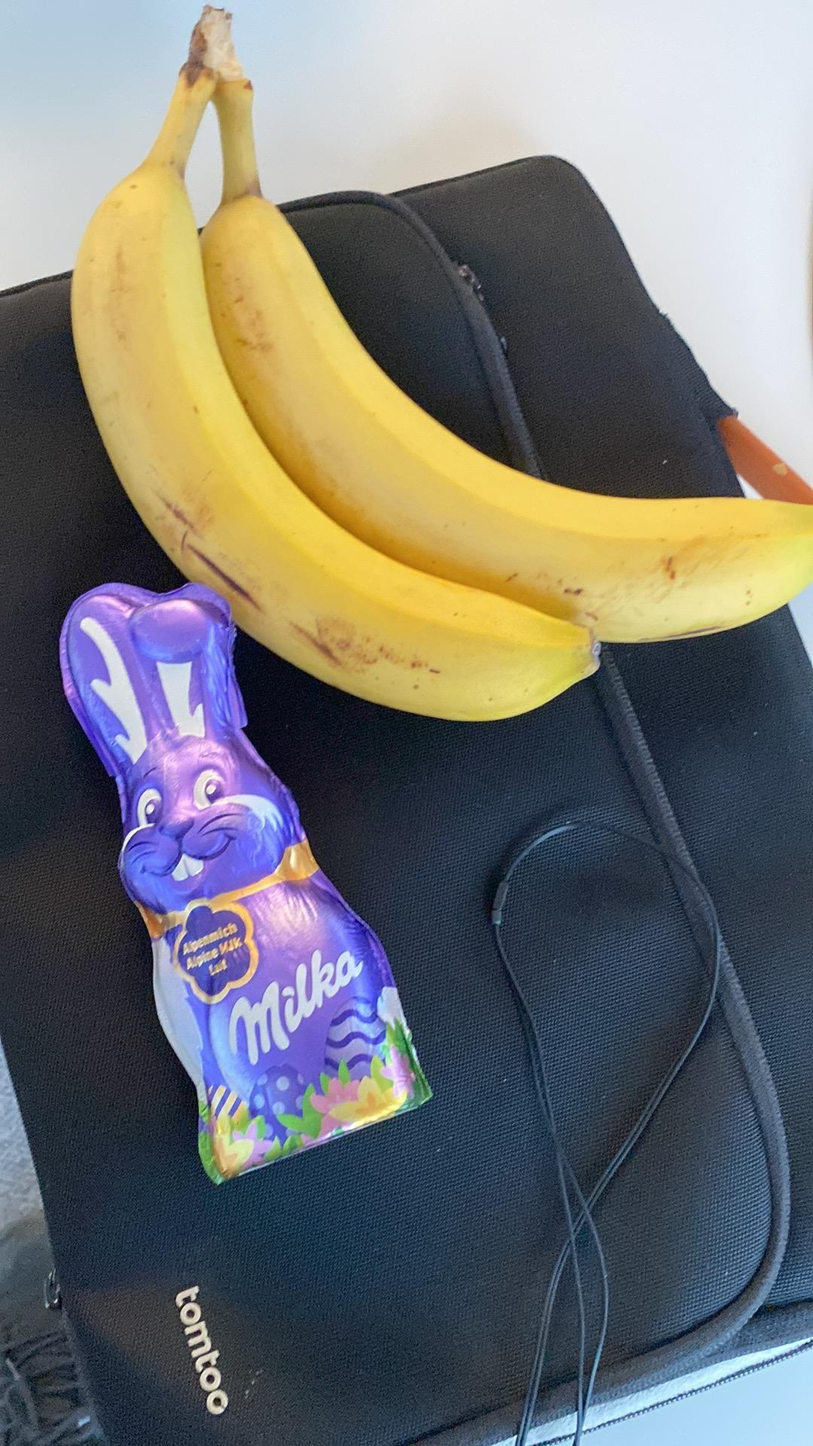banana: (77, 141, 600, 720), (213, 196, 813, 627)
